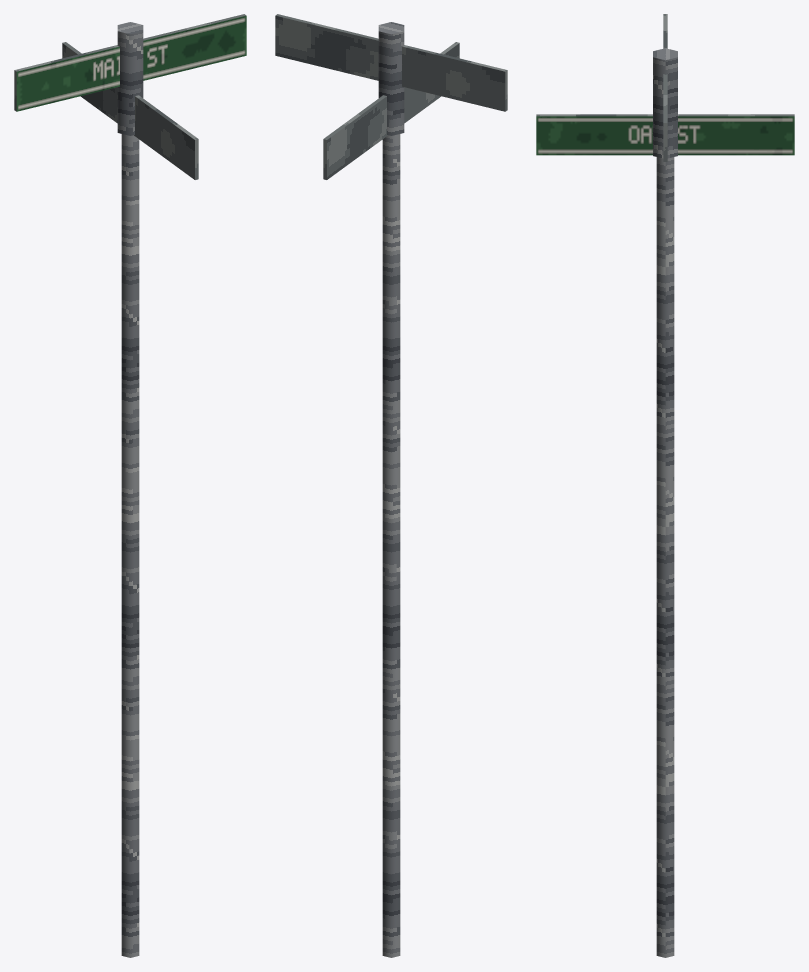
Rendered from SP_Sign_StreetName_Oak_Main.obj.
The picture shows the model from 3 angles, left to right: view 1: azimuth 30°, elevation 25°; view 2: azimuth 150°, elevation 25°; view 3: azimuth 270°, elevation 25°; orthographic projection. The views are drawn at different scales.
Parts seen in each view (by area): view 1: SP_Sign_StreetName_Oak_Main_Mesh_M_Furn_MetalBrushed, SP_Sign_StreetName_Oak_Main_Mesh_M_Town_SignAtlas, SP_Sign_StreetName_Oak_Main_Mesh_M_Com_SignageBacking; view 2: SP_Sign_StreetName_Oak_Main_Mesh_M_Furn_MetalBrushed, SP_Sign_StreetName_Oak_Main_Mesh_M_Com_SignageBacking; view 3: SP_Sign_StreetName_Oak_Main_Mesh_M_Furn_MetalBrushed, SP_Sign_StreetName_Oak_Main_Mesh_M_Town_SignAtlas, SP_Sign_StreetName_Oak_Main_Mesh_M_Com_SignageBacking.
Boxes of the visible parts, x1,y1,x2,y2 form: SP_Sign_StreetName_Oak_Main_Mesh_M_Furn_MetalBrushed: (117, 22, 143, 957); SP_Sign_StreetName_Oak_Main_Mesh_M_Town_SignAtlas: (16, 15, 246, 111); SP_Sign_StreetName_Oak_Main_Mesh_M_Com_SignageBacking: (14, 14, 245, 179); SP_Sign_StreetName_Oak_Main_Mesh_M_Furn_MetalBrushed: (378, 22, 404, 957); SP_Sign_StreetName_Oak_Main_Mesh_M_Com_SignageBacking: (275, 14, 507, 179); SP_Sign_StreetName_Oak_Main_Mesh_M_Furn_MetalBrushed: (653, 48, 677, 957); SP_Sign_StreetName_Oak_Main_Mesh_M_Town_SignAtlas: (536, 116, 794, 155); SP_Sign_StreetName_Oak_Main_Mesh_M_Com_SignageBacking: (536, 14, 794, 161).
Size of the model in its own units: 0.9 by 3.46 by 0.9.
3 materials, 3 textured.
